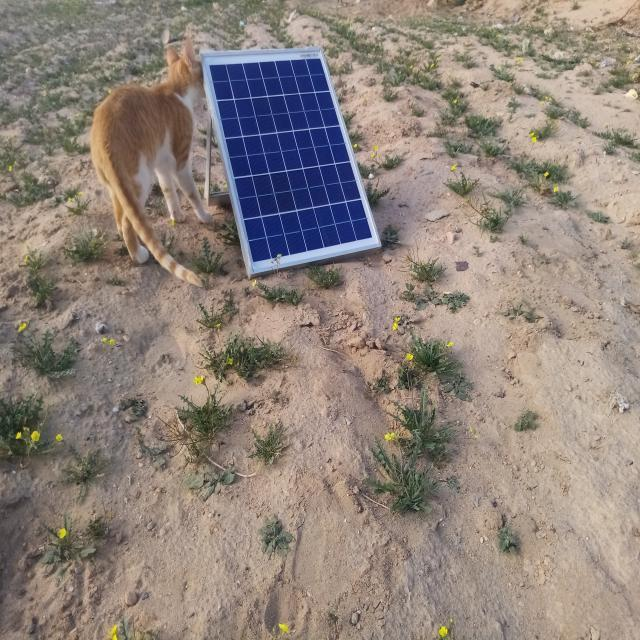no faulty: (202, 53, 378, 271)
